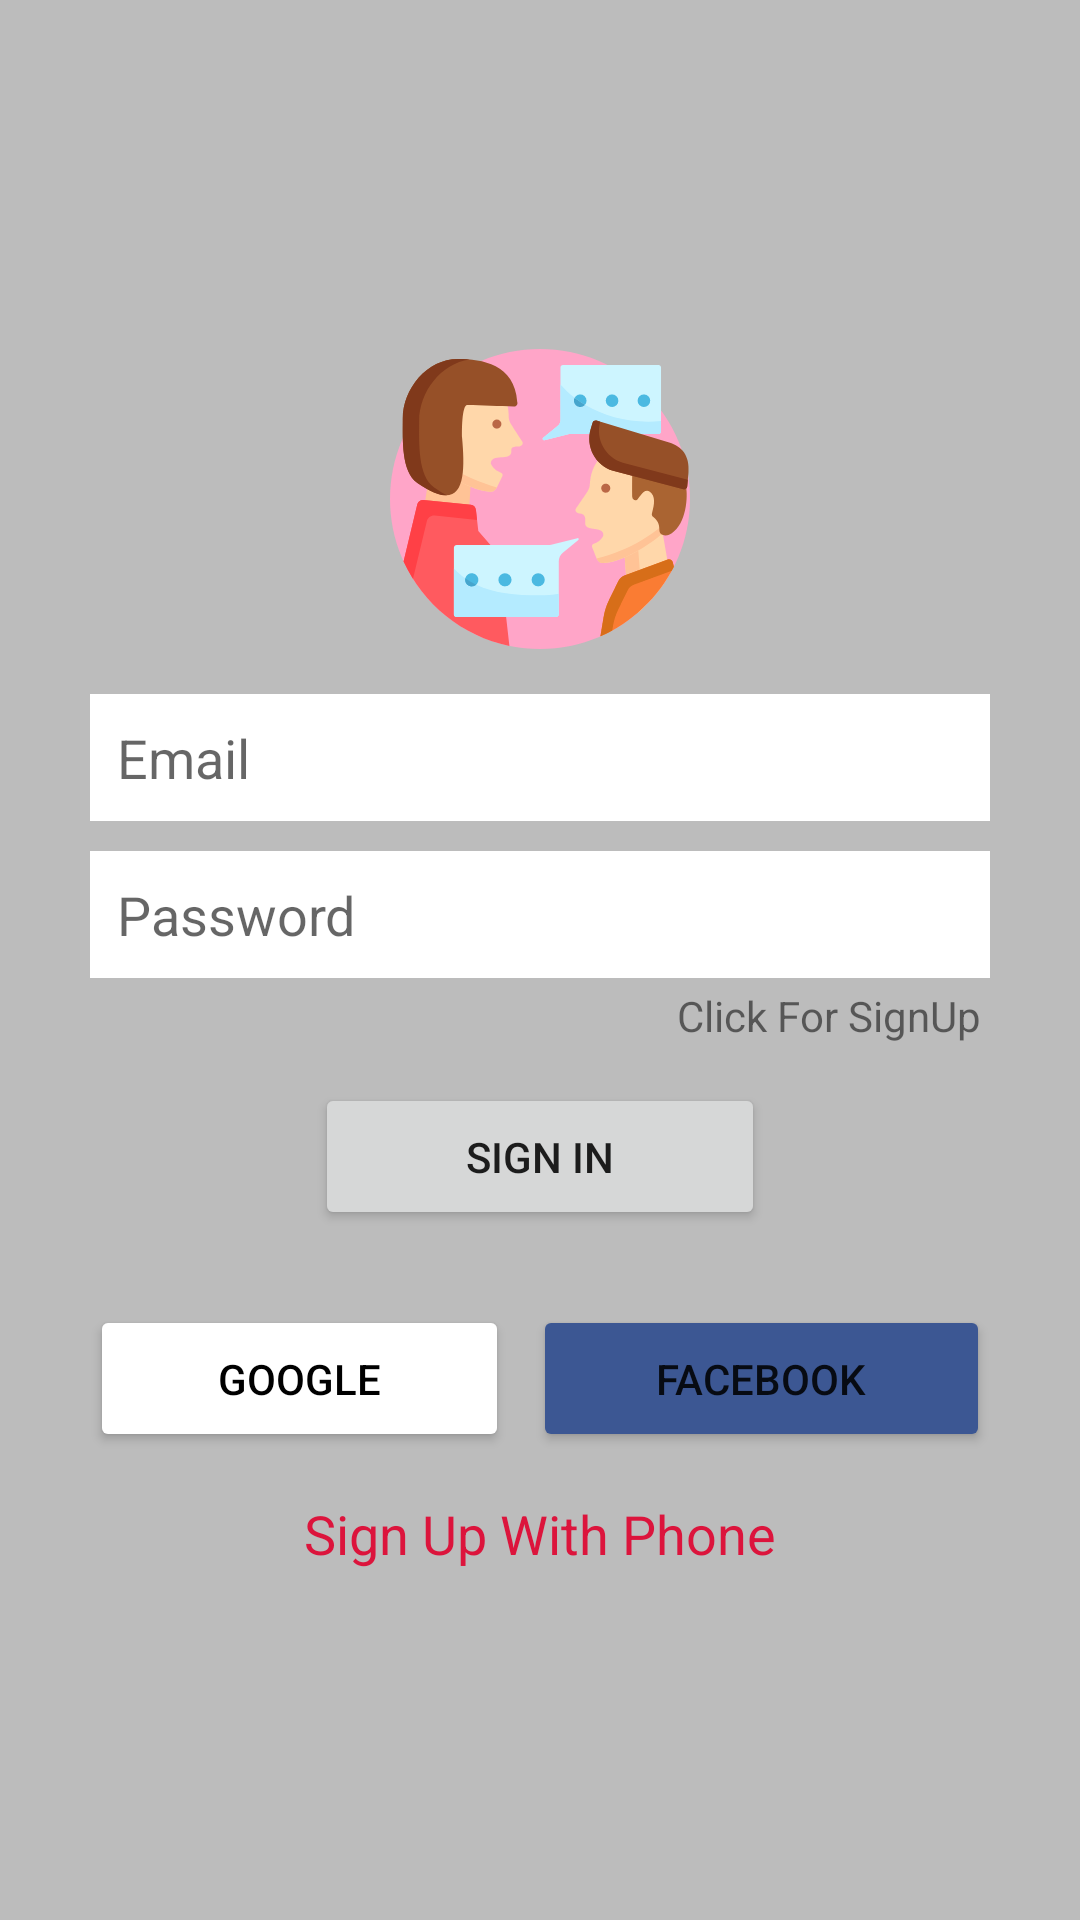

Where to tap for icons on this 1080px×1920px app screen, as (x,y):
chat: (540,499)
